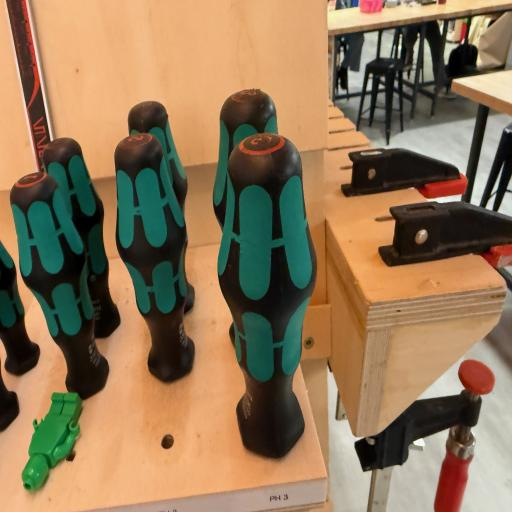Lego-Dude: (19, 391, 85, 497)
